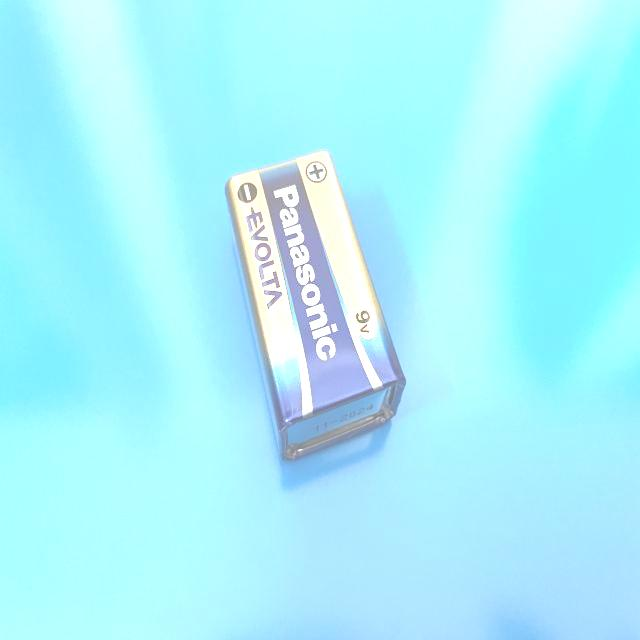9V: (226, 146, 409, 457)
